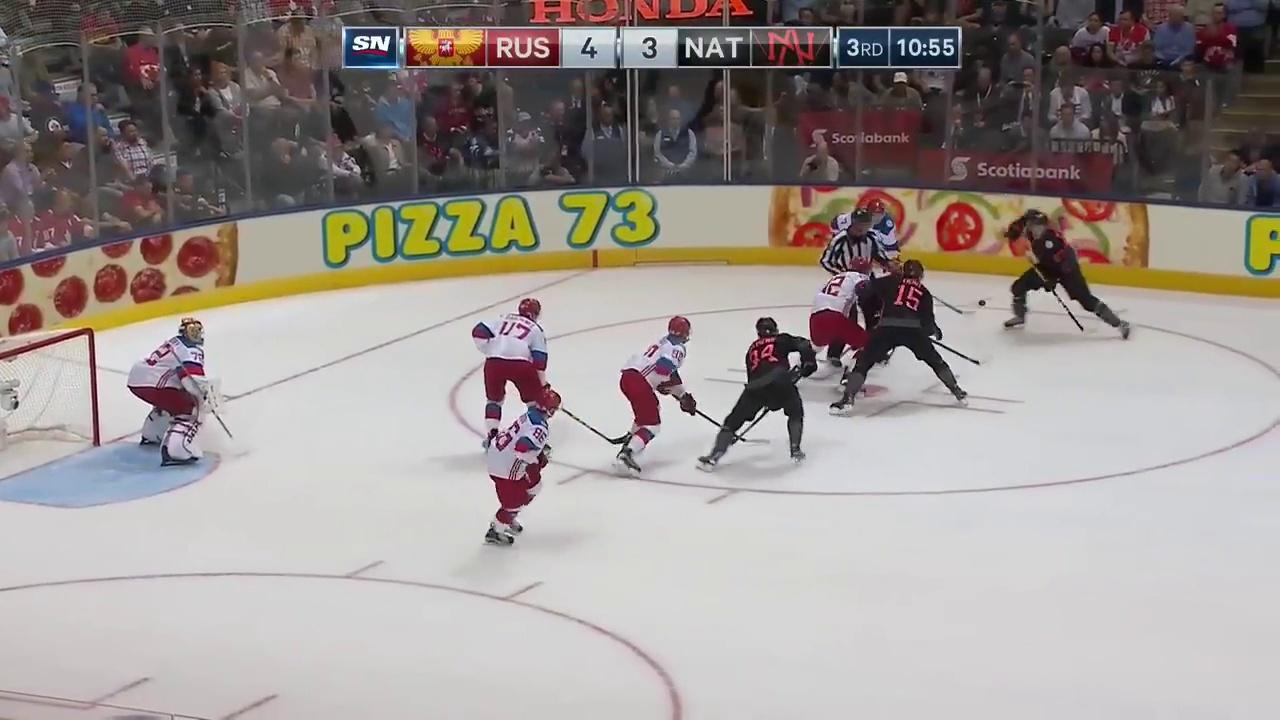ball: (979, 300, 986, 307)
